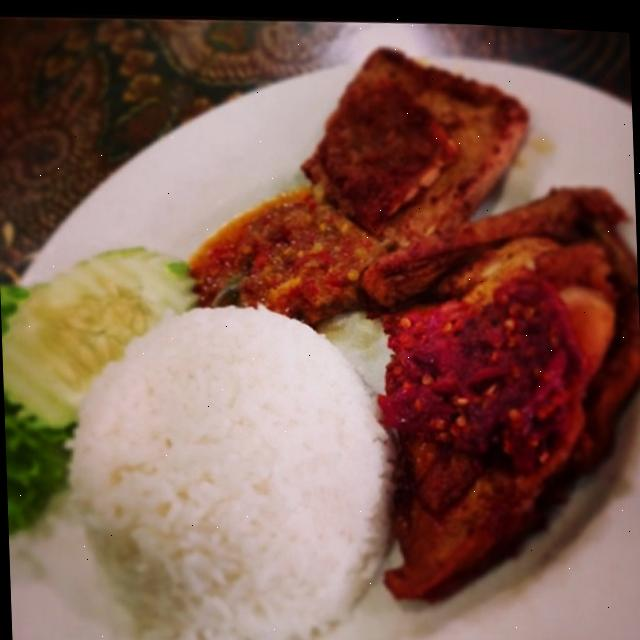鸡肉料理 含炸鸡: (15, 18, 640, 640)
